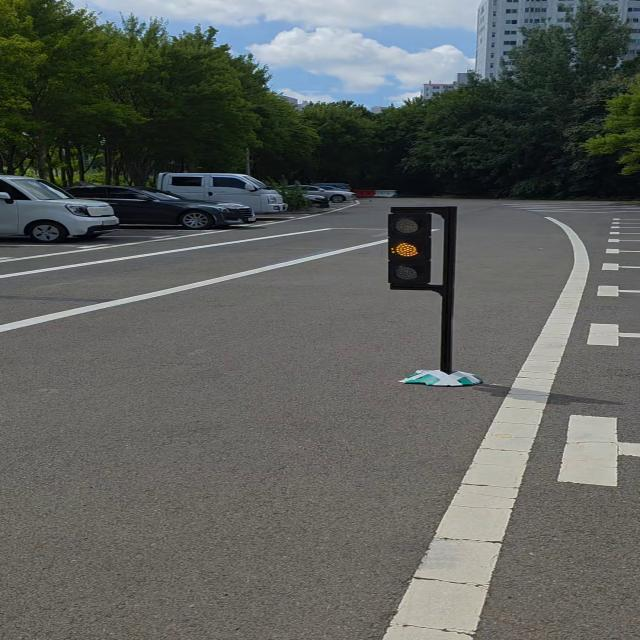yellow: (376, 202, 438, 292)
